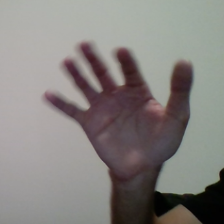left: (42, 28, 198, 180)
